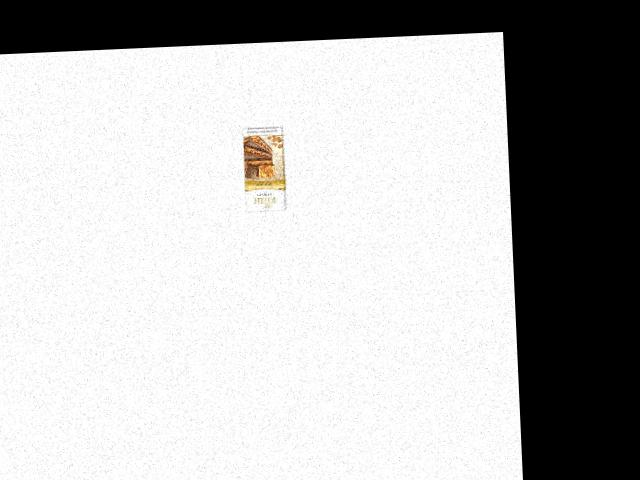chocolate: (234, 122, 302, 217)
